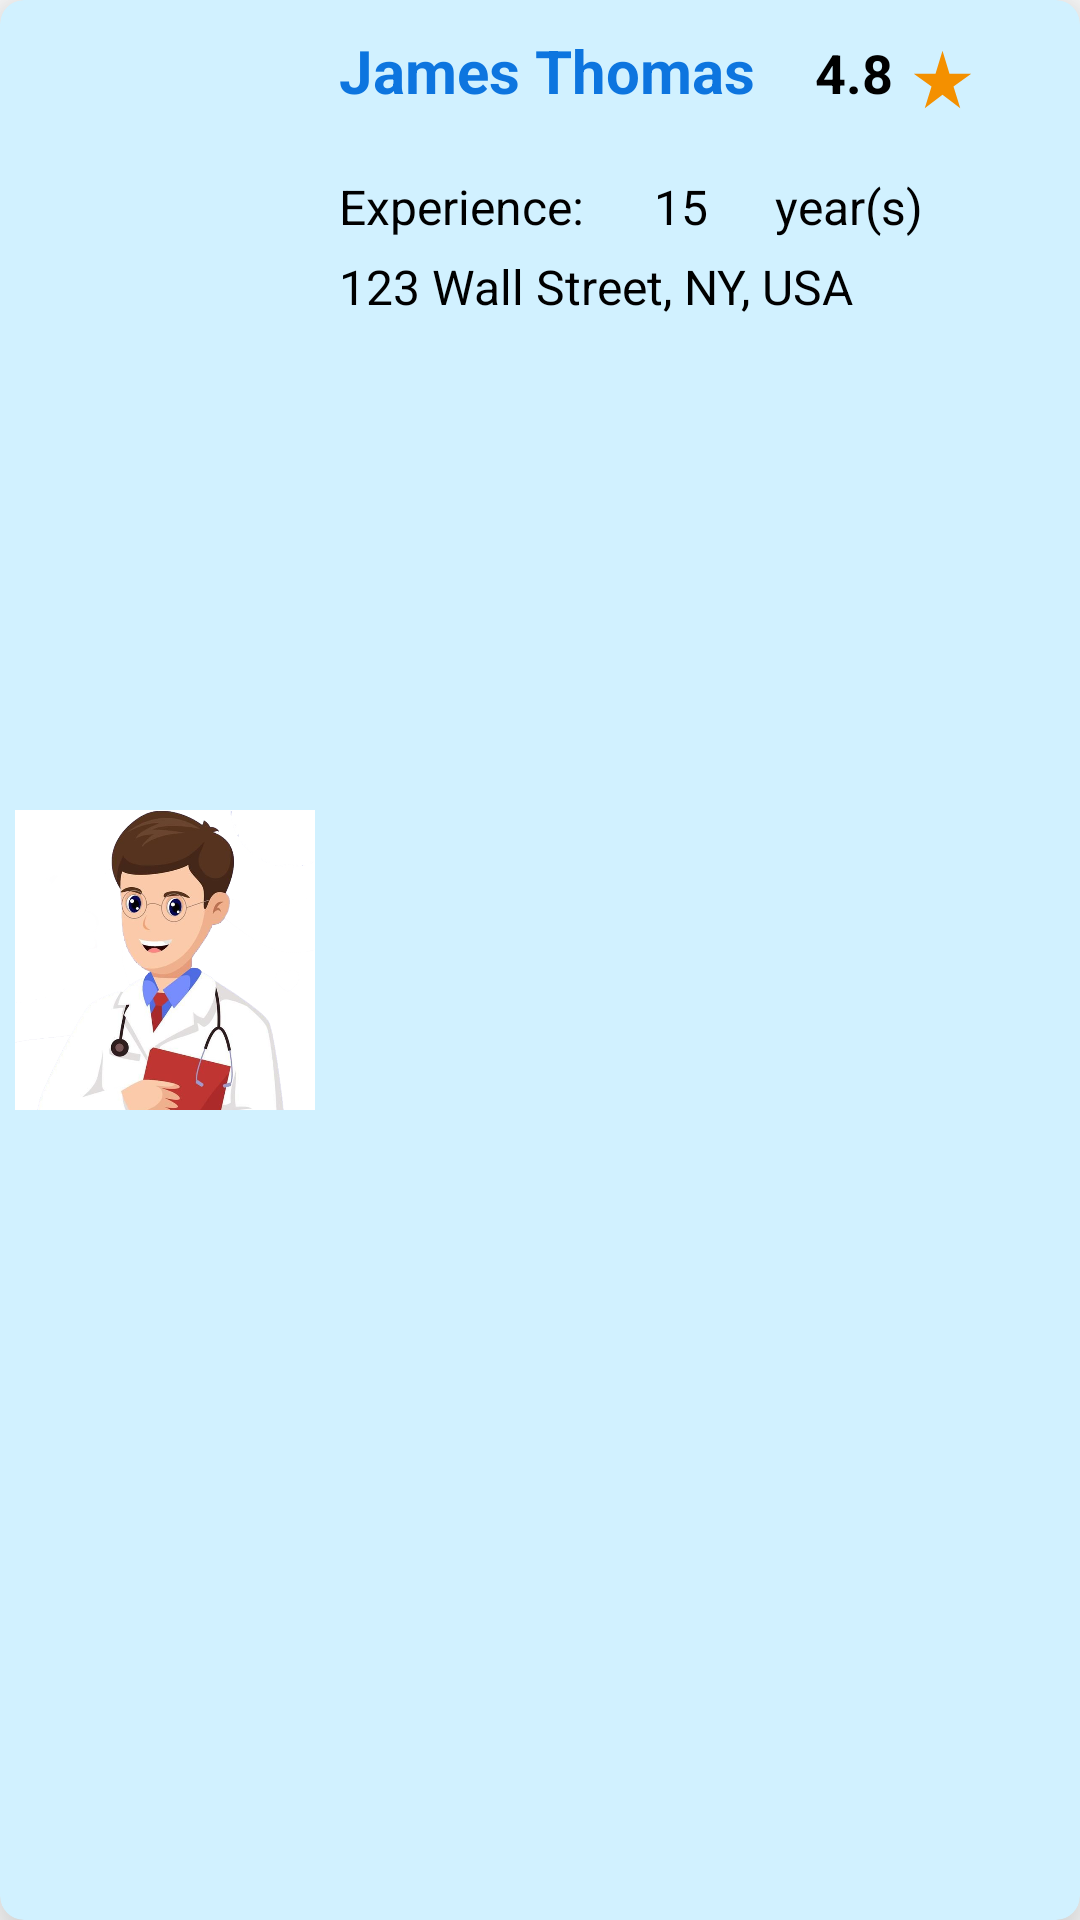

Screen size 1080×1920. Icon name, then its box in pixels as (x1, y1, x2, y2):
doctormale: (15, 810, 315, 1110)
star rate: (914, 51, 971, 108)
